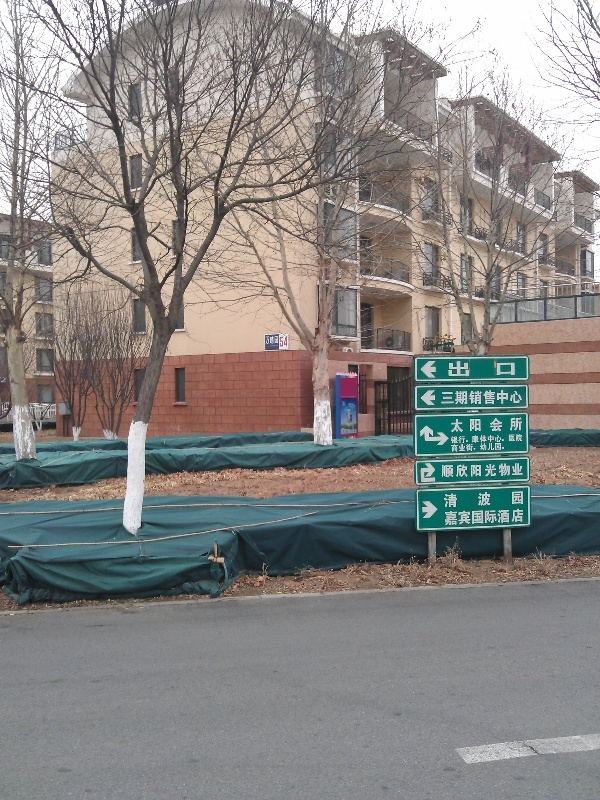text: (449, 508, 464, 527), (465, 508, 480, 527), (481, 508, 496, 527), (497, 508, 512, 527), (449, 462, 464, 480), (465, 462, 480, 480), (481, 462, 496, 480), (497, 462, 512, 480), (449, 491, 464, 509), (465, 491, 480, 509), (481, 491, 496, 509), (497, 491, 512, 509), (449, 362, 464, 378), (465, 362, 480, 378), (481, 362, 496, 378), (497, 362, 512, 378), (449, 418, 464, 434), (465, 418, 480, 434), (481, 418, 496, 434), (497, 418, 512, 434), (513, 508, 525, 527), (449, 390, 464, 405), (465, 390, 480, 405), (481, 390, 496, 405), (497, 390, 512, 405), (513, 462, 524, 480), (513, 491, 524, 509), (465, 434, 480, 445), (481, 434, 496, 445), (497, 434, 512, 445), (513, 418, 523, 434), (450, 434, 464, 445), (513, 390, 523, 405), (441, 462, 448, 480), (465, 444, 480, 452), (481, 444, 496, 452), (513, 434, 523, 445), (441, 390, 448, 405), (451, 444, 464, 452), (443, 491, 448, 509), (280, 337, 288, 347), (444, 508, 448, 527), (497, 444, 505, 452), (265, 336, 272, 345), (273, 336, 279, 345), (513, 362, 516, 378)
